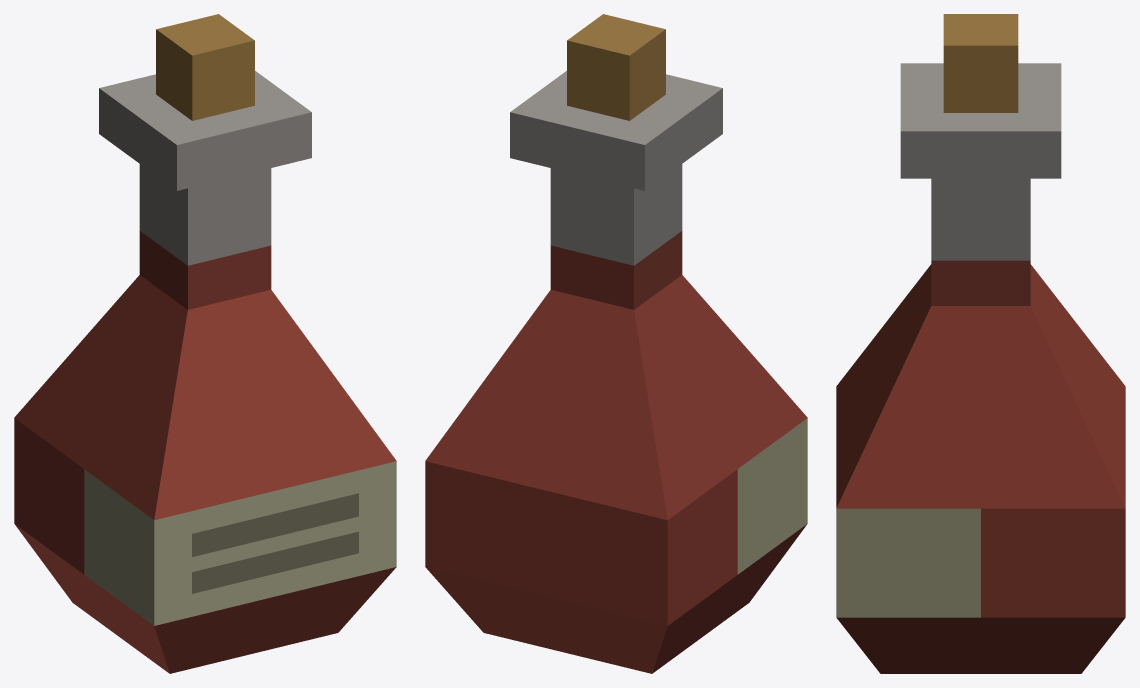
The model's file is SD_Prop_Potion_01.fbx.
The picture shows the model from 3 angles, left to right: view 1: azimuth 30°, elevation 25°; view 2: azimuth 150°, elevation 25°; view 3: azimuth 270°, elevation 25°; orthographic projection. The views are drawn at different scales.
Parts seen in each view (by area): view 1: SD_Prop_Potion_01; view 2: SD_Prop_Potion_01; view 3: SD_Prop_Potion_01.
Boxes of the visible parts, bbox=[...] form: SD_Prop_Potion_01: bbox=[14, 14, 396, 673]; SD_Prop_Potion_01: bbox=[425, 14, 807, 673]; SD_Prop_Potion_01: bbox=[836, 14, 1125, 673].
Bounding box in the file's own units: 0.4075 × 0.9357 × 0.4075.
